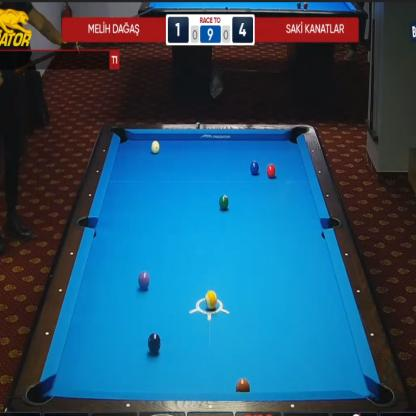Ball: (147, 333, 161, 354), (205, 290, 217, 310), (138, 271, 150, 290), (235, 378, 250, 392), (250, 160, 260, 176), (219, 194, 229, 210), (266, 164, 276, 178), (151, 140, 160, 154)
